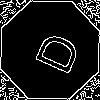D: (25, 25, 82, 78)
